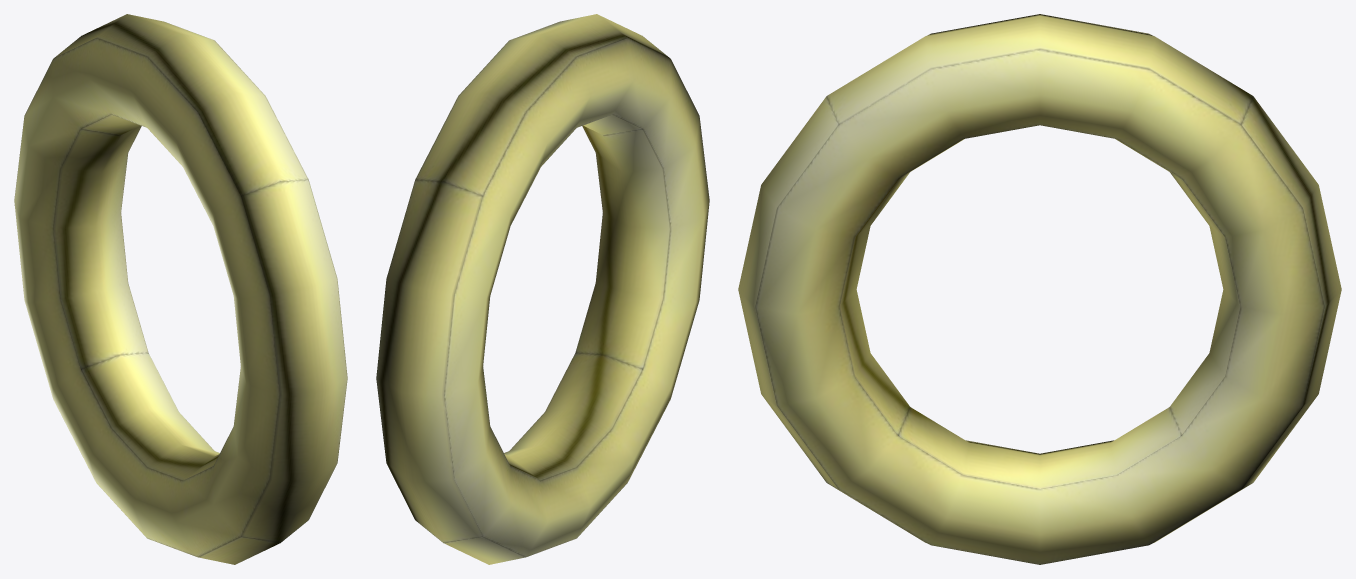
Rendered from coin.obj.
The picture shows the model from 3 angles, left to right: view 1: azimuth 30°, elevation 25°; view 2: azimuth 150°, elevation 25°; view 3: azimuth 270°, elevation 25°; orthographic projection. The views are drawn at different scales.
Parts seen in each view (by area): view 1: Torus001; view 2: Torus001; view 3: Torus001.
Boxes of the visible parts, box(x1,y1,x2,y2) form: Torus001: box(14, 14, 347, 564); Torus001: box(376, 14, 709, 564); Torus001: box(738, 14, 1341, 564).
Bounding box in the file's own units: 5.63 × 28.71 × 28.71.
1 material, 1 textured.
